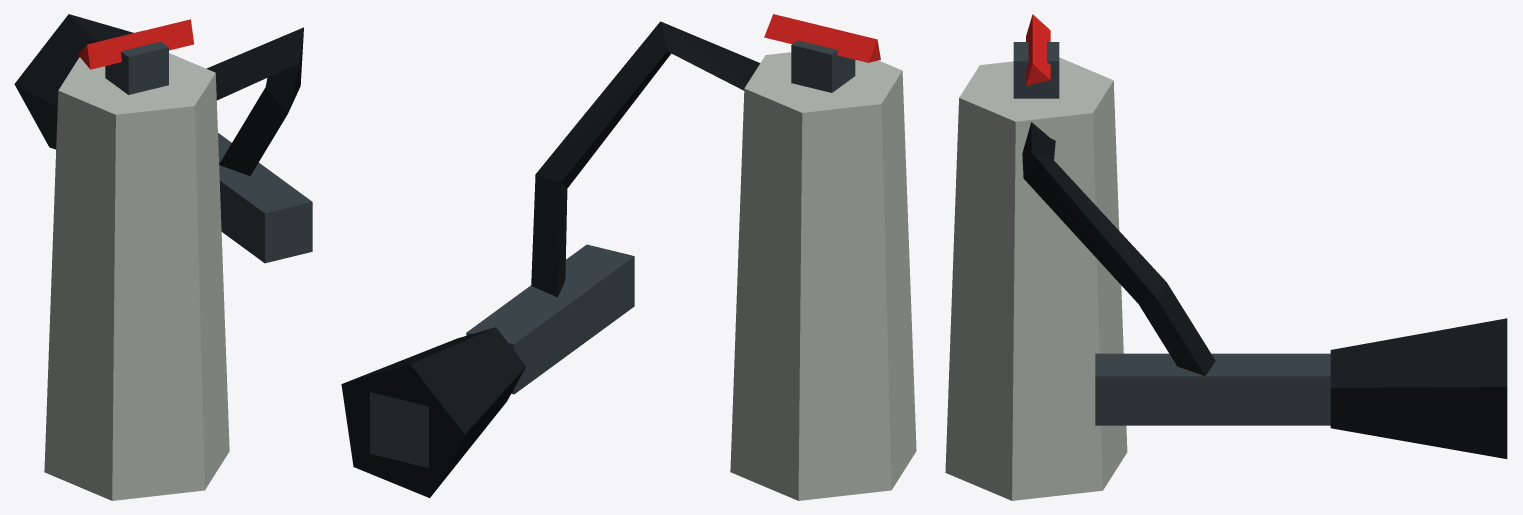
3 views of the same model, side by side, from view 1: azimuth 30°, elevation 25°; view 2: azimuth 150°, elevation 25°; view 3: azimuth 270°, elevation 25° (orthographic). The views are drawn at different scales.
Parts seen in each view (by area): view 1: mount; view 2: mount; view 3: mount.
Boxes of the visible parts, x1,y1,x2,y2 form: mount: [14, 14, 312, 500]; mount: [341, 14, 916, 500]; mount: [945, 14, 1507, 500].
Size of the model in its own units: 6.17 by 7.94 by 9.57.
